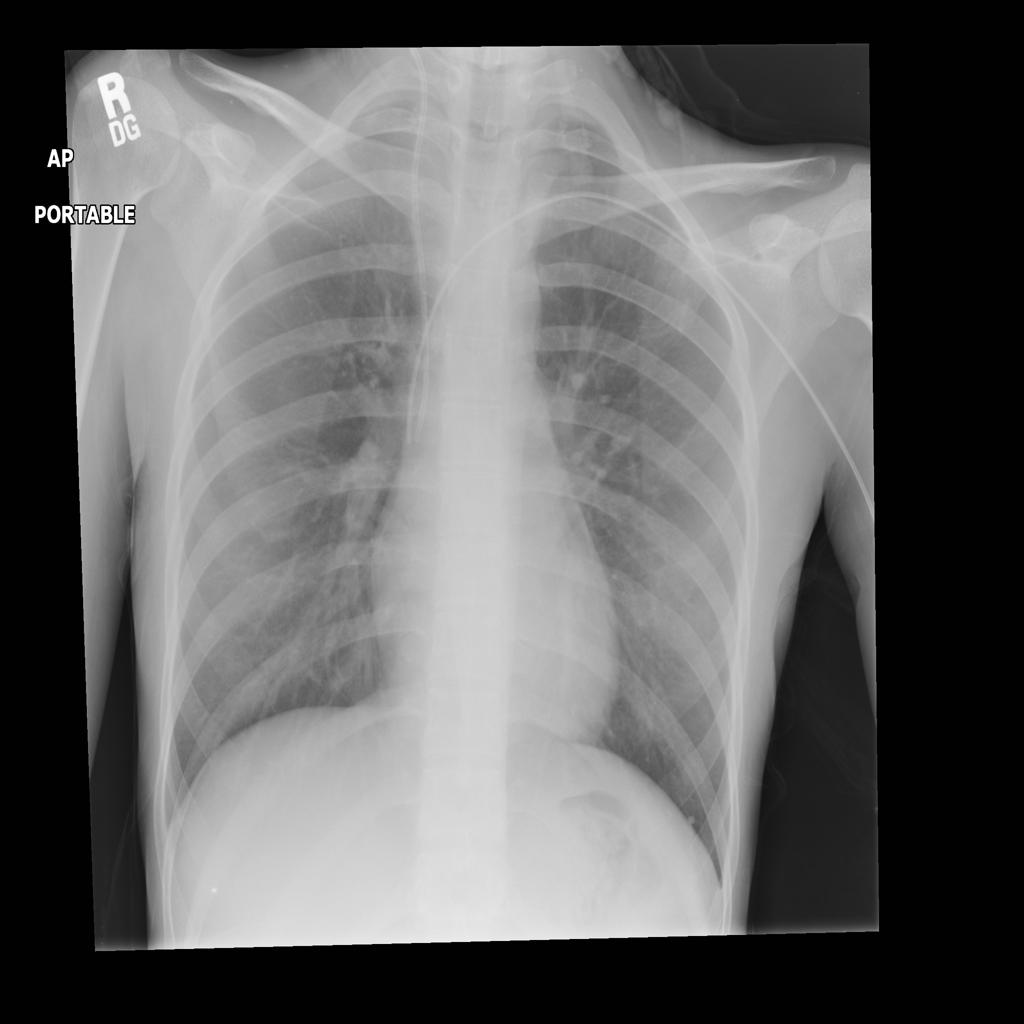nodule: (674, 802, 708, 842)
